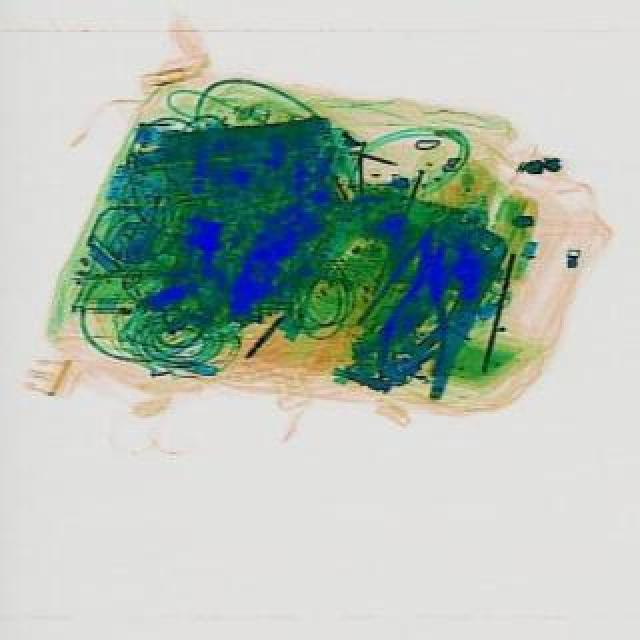wrench: (370, 230, 466, 382)
